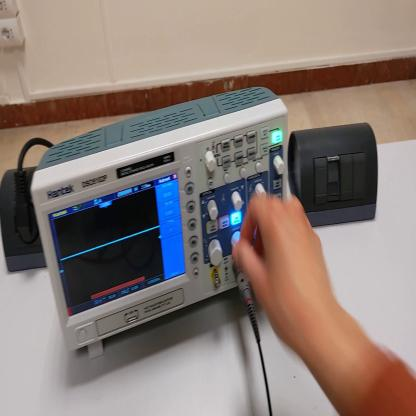hand: (233, 191, 334, 351)
oscilloscope: (28, 87, 287, 361)
socket: (2, 167, 48, 273)
